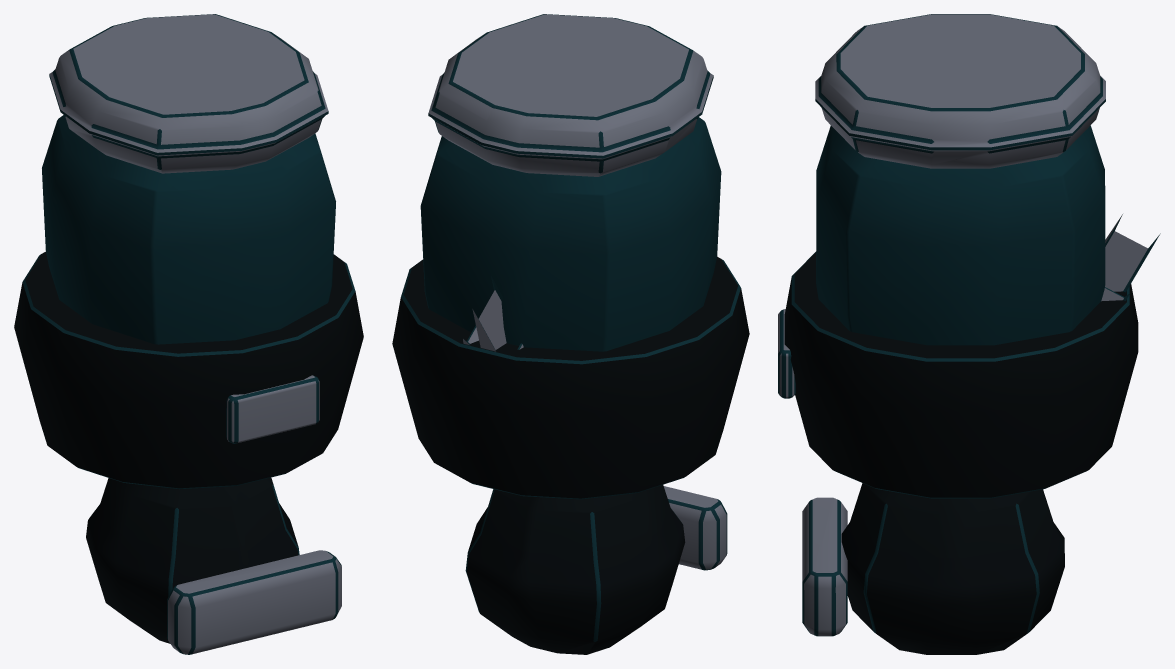
The model's file is Trama_LuvaL.fbx.
3 views of the same model, side by side, from view 1: azimuth 30°, elevation 25°; view 2: azimuth 150°, elevation 25°; view 3: azimuth 270°, elevation 25° (orthographic). The views are drawn at different scales.
Parts seen in each view (by area): view 1: Piece; view 2: Piece; view 3: Piece.
Boxes of the visible parts, box(x1,y1,x2,y2) form: Piece: box(14, 14, 363, 654); Piece: box(392, 14, 749, 654); Piece: box(778, 14, 1160, 654).
Size of the model in its own units: 0.1962 by 0.3488 by 0.2116.
